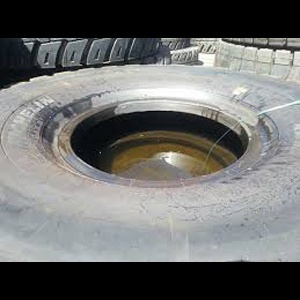tire: (1, 64, 300, 263)
